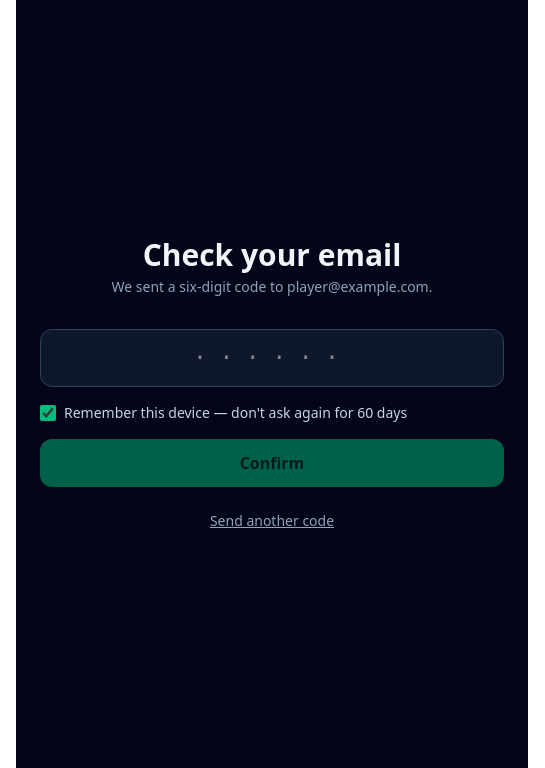
it: VerifyCodeForm › shows the reason the server rejected the code
The image size is (545, 768).
Type "000000" into the field.
click(272, 358); type("000000")  # box [40,329,504,387]
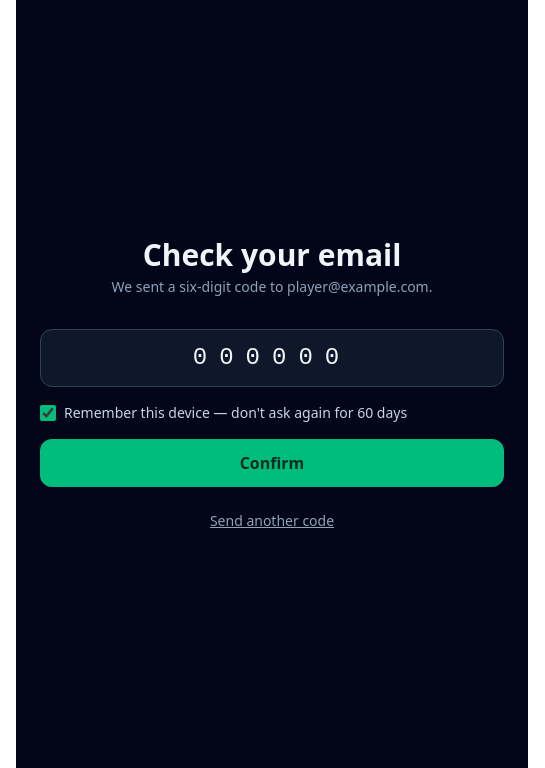
Click the button "Confirm".
click(272, 463)  # box [40,439,504,487]
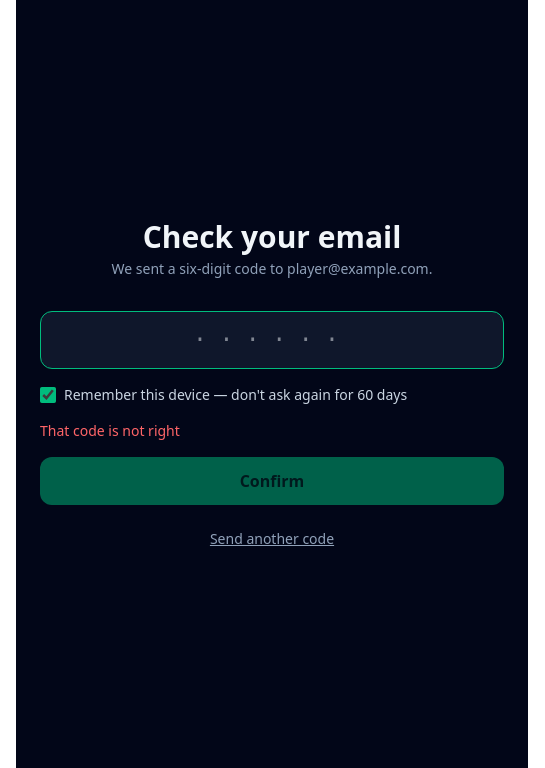
expect the text "That code is not right" is shown: met, box [40,421,180,440]
